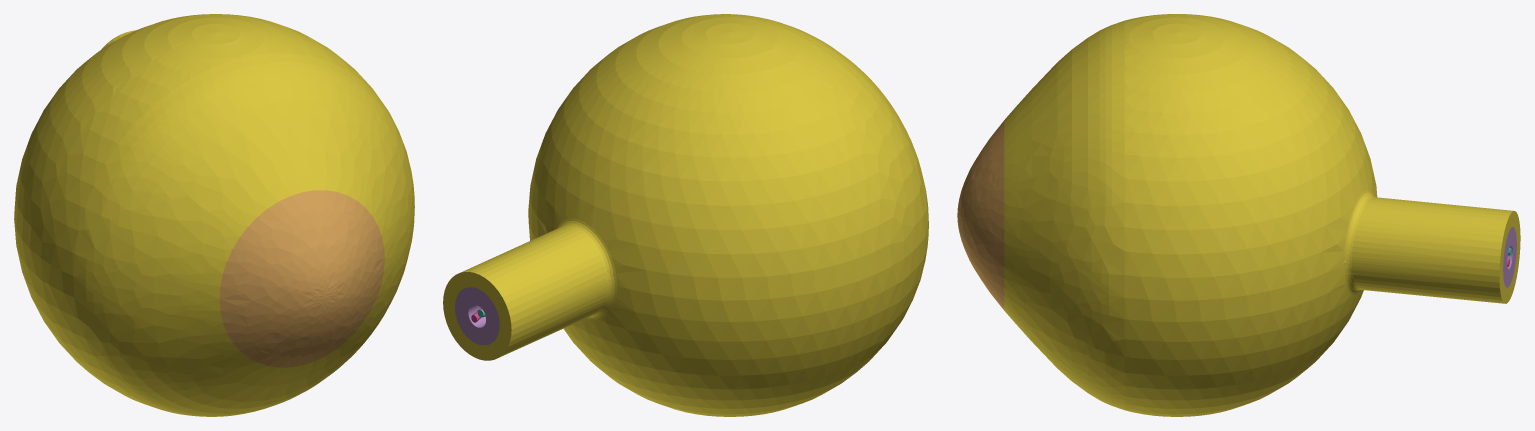
File: eye.glb
3 renders of one model, left to right at view 1: azimuth 30°, elevation 25°; view 2: azimuth 150°, elevation 25°; view 3: azimuth 270°, elevation 25°, orthographic.
Parts seen in each view (by area): view 1: Sclera, Cornea; view 2: Sclera, Retina; view 3: Sclera, Cornea, Retina.
Boxes of the visible parts, box(x1,y1,x2,y2) form: Sclera: box(14, 14, 414, 416); Cornea: box(219, 190, 384, 367); Sclera: box(443, 14, 928, 416); Retina: box(455, 287, 499, 345); Sclera: box(1004, 14, 1520, 416); Cornea: box(957, 120, 1004, 310); Retina: box(1503, 227, 1516, 287).
Bounding box in the file's own units: 0.025 × 0.025 × 0.0349.
